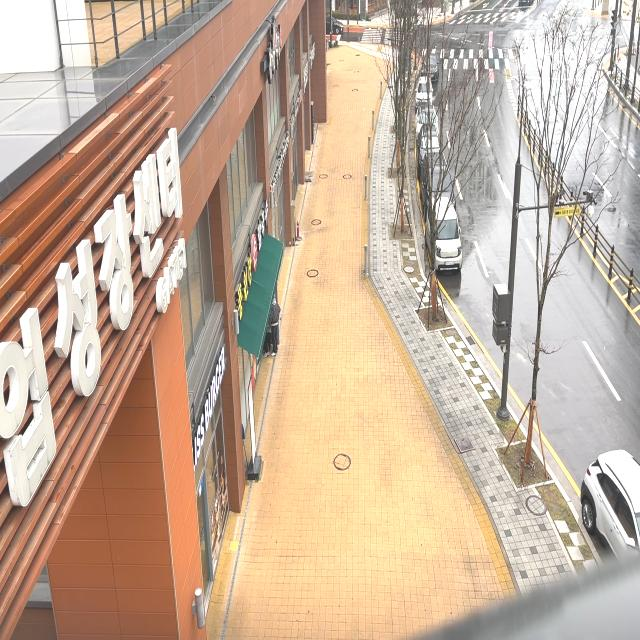Car: (559, 424, 640, 563), (423, 195, 468, 284), (419, 150, 455, 209), (413, 103, 442, 145), (421, 40, 446, 82), (417, 124, 440, 168), (416, 76, 435, 114), (322, 15, 350, 37)
